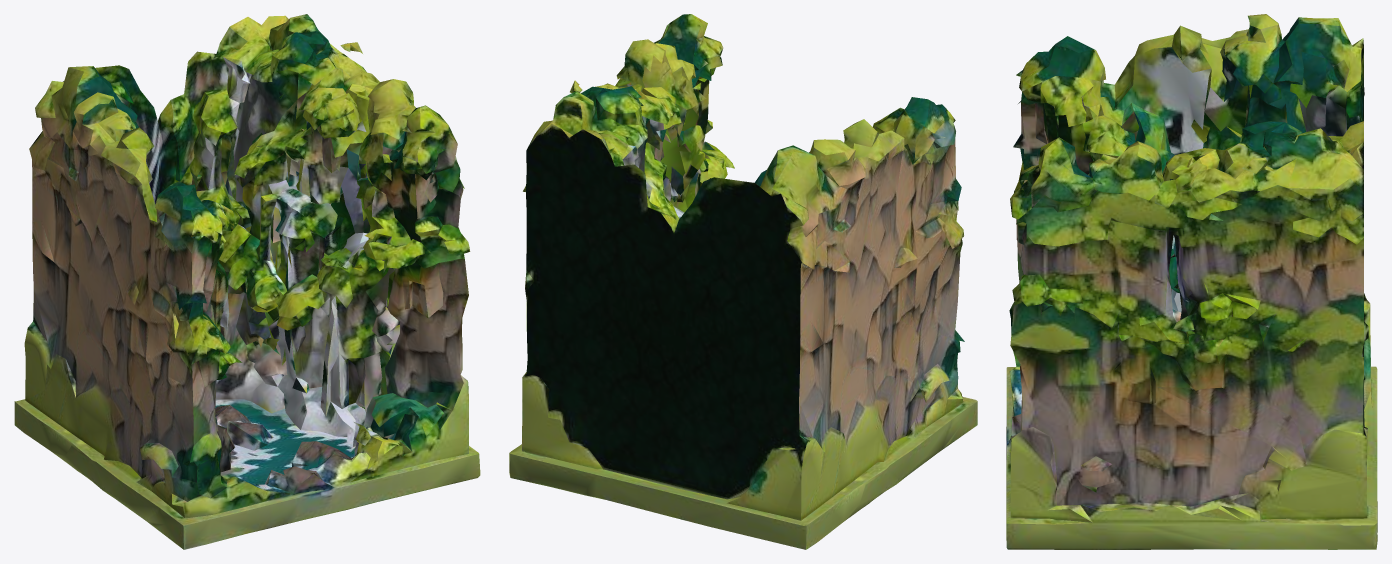
The model's file is maling-river-canyon.glb.
The picture shows the model from 3 angles, left to right: view 1: azimuth 30°, elevation 25°; view 2: azimuth 150°, elevation 25°; view 3: azimuth 270°, elevation 25°; orthographic projection. The views are drawn at different scales.
Visible parts, largest first — view 1: logan-textured.obj; view 2: logan-textured.obj; view 3: logan-textured.obj.
Boxes of the visible parts, x1=… form: logan-textured.obj: x1=14, y1=14, x2=480, y2=549; logan-textured.obj: x1=509, y1=14, x2=977, y2=549; logan-textured.obj: x1=1006, y1=14, x2=1377, y2=549.
Size of the model in its own units: 0.8529 by 1 by 0.8445.
Materials: 1 (1 with a texture image).
